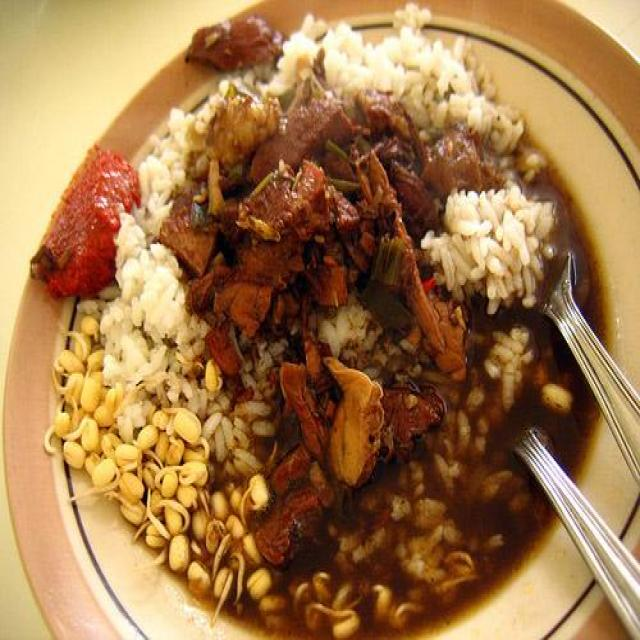Rawon: (104, 64, 594, 624)
